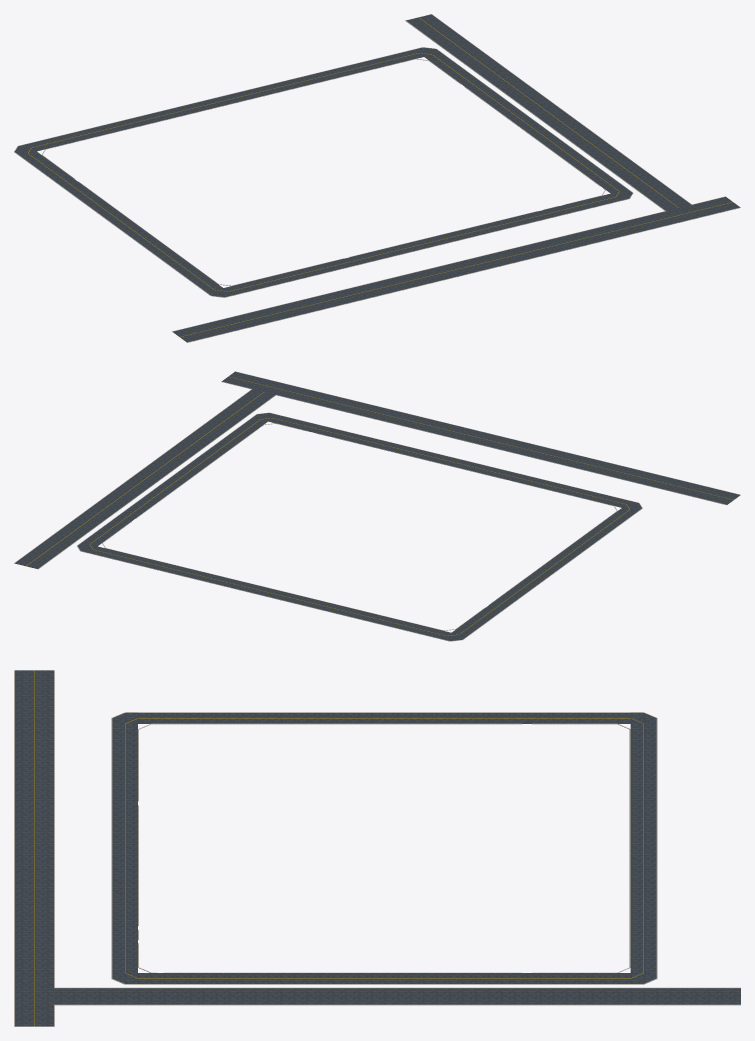
File: ov-road-main.glb
3 views of the same model, one above another, from view 1: azimuth 30°, elevation 25°; view 2: azimuth 150°, elevation 25°; view 3: azimuth 270°, elevation 25° (orthographic). The views are drawn at different scales.
Visible parts, largest first — view 1: road_S_main, road_E_main, road_ring_N, road_ring_S, road_ring_E, road_ring_W, curb_S_south, curb_S_north_W; view 2: road_S_main, road_E_main, road_ring_S, road_ring_N, road_ring_E, road_ring_W, curb_S_south, curb_S_north_W; view 3: road_S_main, road_E_main, road_ring_N, road_ring_S, road_ring_W, road_ring_E, curb_E_west, curb_E_east, curb_ring_inner_W_0.
Boxes of the visible parts, bbox=[...] form: road_S_main: bbox=[172, 196, 740, 342]; road_E_main: bbox=[406, 14, 691, 210]; road_ring_N: bbox=[27, 49, 423, 151]; road_ring_S: bbox=[224, 193, 619, 295]; road_ring_E: bbox=[424, 52, 627, 193]; road_ring_W: bbox=[20, 151, 222, 291]; curb_S_south: bbox=[187, 207, 740, 342]; curb_S_north_W: bbox=[172, 211, 665, 331]; road_S_main: bbox=[222, 371, 740, 504]; road_E_main: bbox=[15, 389, 275, 568]; road_ring_S: bbox=[268, 415, 630, 507]; road_ring_N: bbox=[89, 546, 450, 639]; road_ring_E: bbox=[82, 417, 267, 546]; road_ring_W: bbox=[452, 508, 637, 636]; curb_S_south: bbox=[235, 371, 740, 494]; curb_S_north_W: bbox=[276, 395, 726, 505]; road_S_main: bbox=[15, 670, 53, 1026]; road_E_main: bbox=[54, 988, 740, 1004]; road_ring_N: bbox=[630, 723, 656, 972]; road_ring_S: bbox=[112, 723, 137, 972]; road_ring_W: bbox=[138, 713, 630, 723]; road_ring_E: bbox=[138, 973, 630, 983]; curb_E_west: bbox=[54, 987, 740, 988]; curb_E_east: bbox=[55, 1004, 740, 1005]; curb_ring_inner_W_0: bbox=[151, 723, 521, 724].
Bounding box in the file's own units: 260 × 0.12 × 224.
3 materials, 3 textured.
